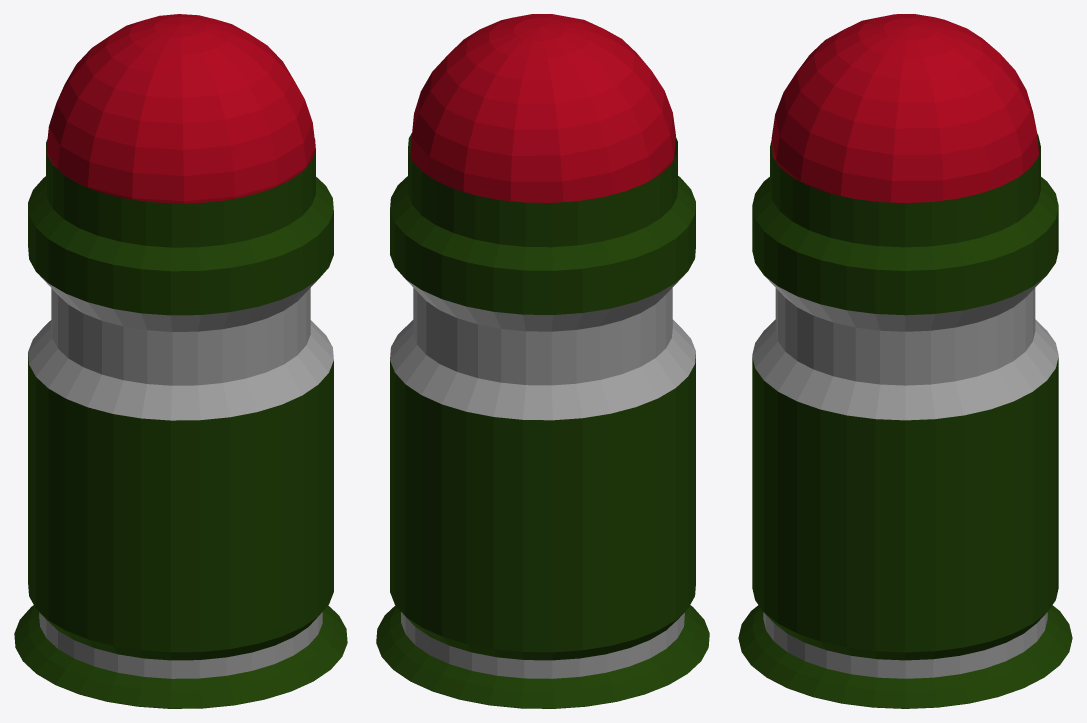
The model's file is Grenade.fbx.
3 views of the same model, side by side, from view 1: azimuth 30°, elevation 25°; view 2: azimuth 150°, elevation 25°; view 3: azimuth 270°, elevation 25° (orthographic).
Visible parts, largest first — view 1: Cylinder, Sphere; view 2: Cylinder, Sphere; view 3: Cylinder, Sphere.
Part boxes in pixels (x1,y1,x2,y2): Cylinder: (14,138,347,708); Sphere: (46,14,315,203); Cylinder: (376,133,709,708); Sphere: (410,14,675,202); Cylinder: (738,134,1072,708); Sphere: (771,14,1038,202).
Bounding box in the file's own units: 43.58 × 88.12 × 43.58.
1 material, 1 textured.
